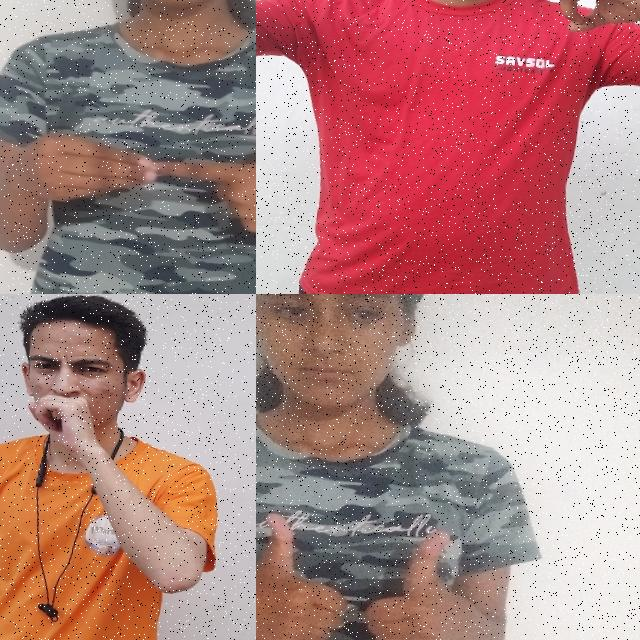Fist Mouth: (0, 294, 164, 473)
Five Fathers: (3, 77, 256, 249)
Okay: (503, 0, 640, 45)
Thumbs Up: (357, 518, 481, 640), (256, 505, 361, 640)
